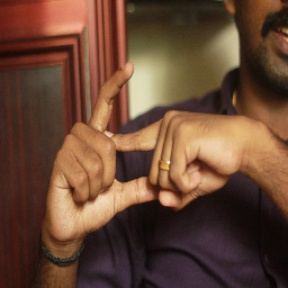E: (78, 65, 190, 215)
